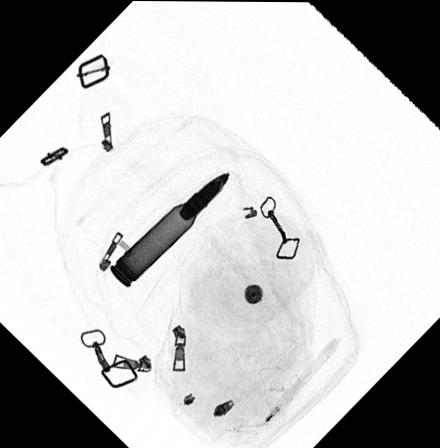Bullet: (108, 169, 231, 287)
